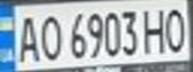0: (103, 7, 124, 57)
3: (121, 7, 142, 56)
6: (63, 9, 87, 60)
9: (84, 8, 106, 59)
A: (12, 11, 42, 63)
H: (139, 3, 172, 55)
O: (36, 10, 63, 62), (163, 2, 190, 54)
